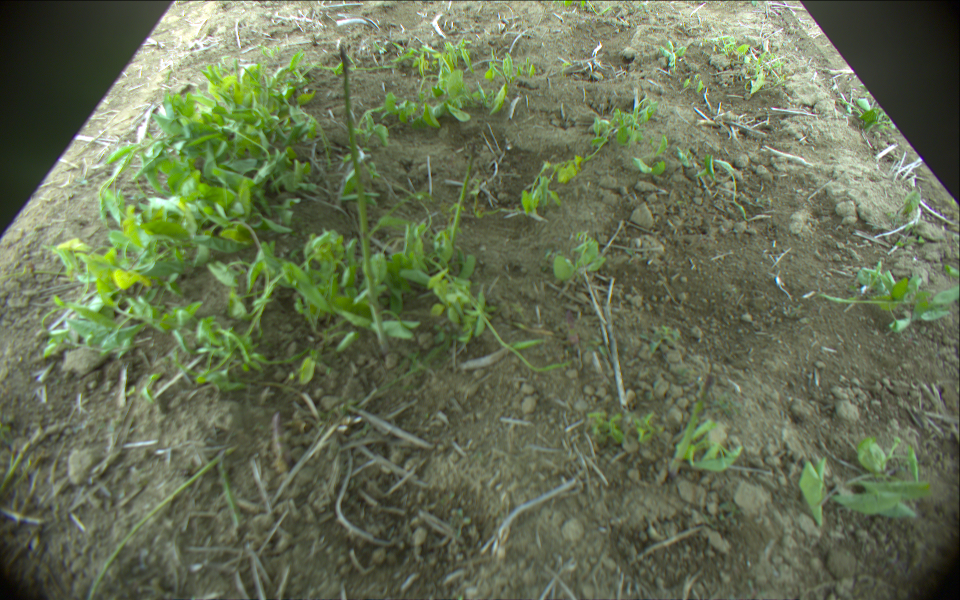aspa: (337, 39, 393, 353), (671, 371, 715, 467), (445, 142, 479, 265), (213, 448, 240, 534), (270, 411, 287, 475)
